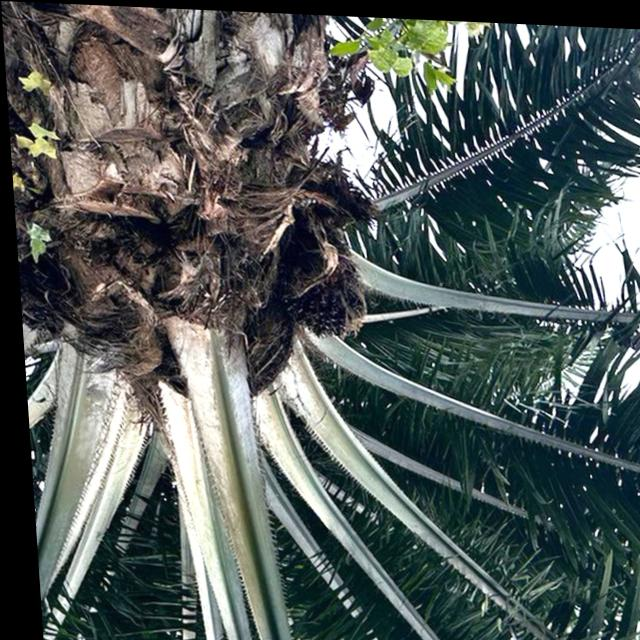almost: (273, 244, 375, 349)
